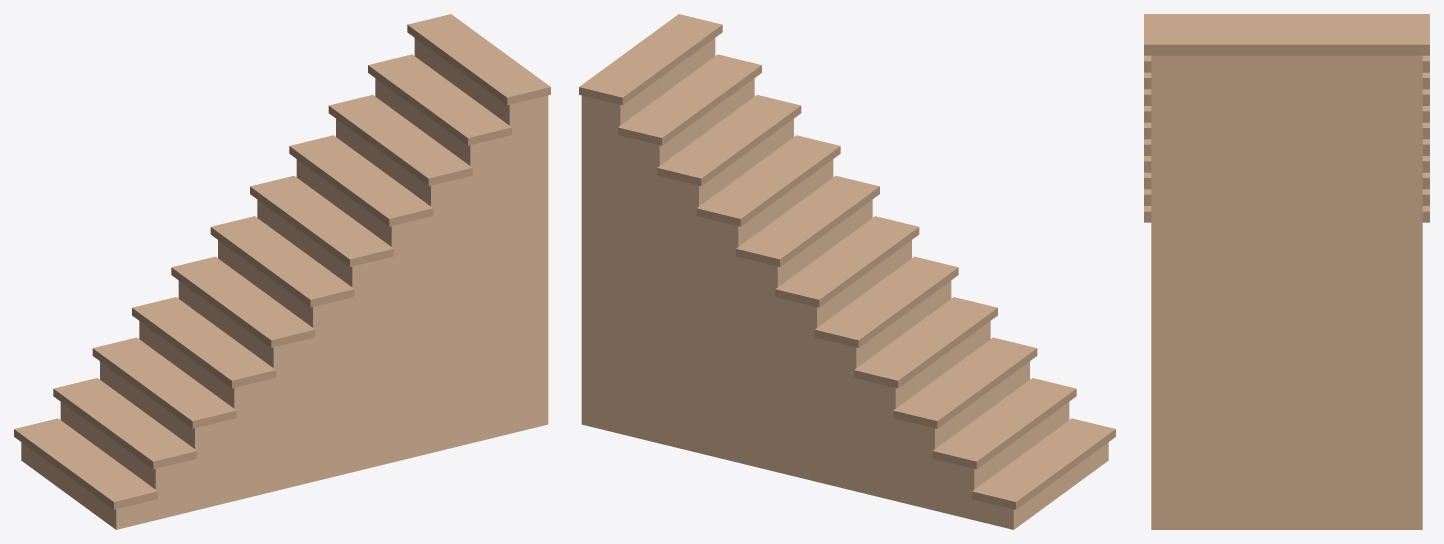
Rendered from stairs-col.glb.
3 renders of one model, left to right at view 1: azimuth 30°, elevation 25°; view 2: azimuth 150°, elevation 25°; view 3: azimuth 270°, elevation 25°, orthographic. The views are drawn at different scales.
Visible parts, largest first — view 1: stairs-col; view 2: stairs-col; view 3: stairs-col.
Boxes of the visible parts, left/top/right/bottom form: stairs-col: left=14, top=14, right=550, bottom=529; stairs-col: left=579, top=14, right=1115, bottom=529; stairs-col: left=1144, top=14, right=1429, bottom=529.
Size of the model in its own units: 2.02 by 1.5 by 0.8.
